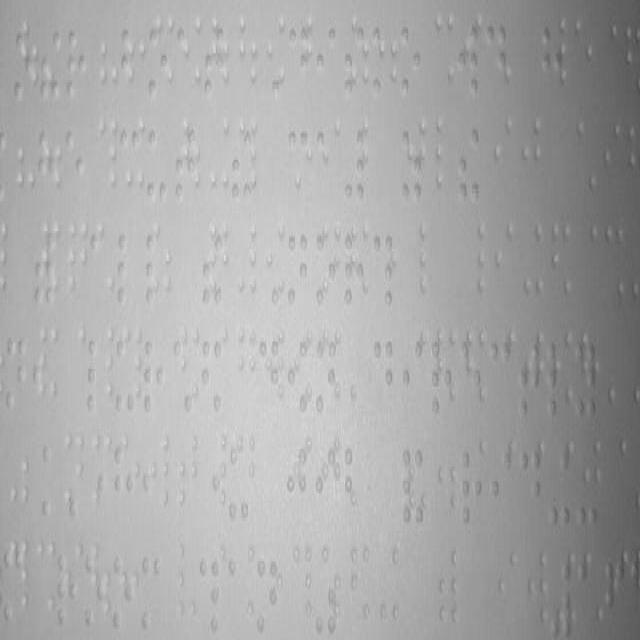braiile: (65, 24, 91, 109), (490, 338, 514, 427), (372, 333, 396, 422), (140, 551, 164, 640), (490, 446, 514, 532), (111, 442, 135, 527), (256, 553, 280, 638), (226, 555, 250, 640), (398, 21, 422, 103), (483, 19, 507, 101), (142, 334, 166, 416), (86, 334, 110, 416), (227, 446, 251, 528), (146, 129, 170, 209), (64, 126, 88, 206), (116, 231, 140, 311), (314, 338, 338, 418), (2, 551, 26, 631), (402, 339, 424, 421), (287, 231, 309, 311), (114, 338, 136, 418), (6, 334, 28, 414), (461, 449, 483, 529), (518, 451, 540, 531), (146, 27, 170, 98), (542, 24, 562, 104), (578, 560, 598, 640), (288, 24, 308, 100), (316, 24, 336, 100)
